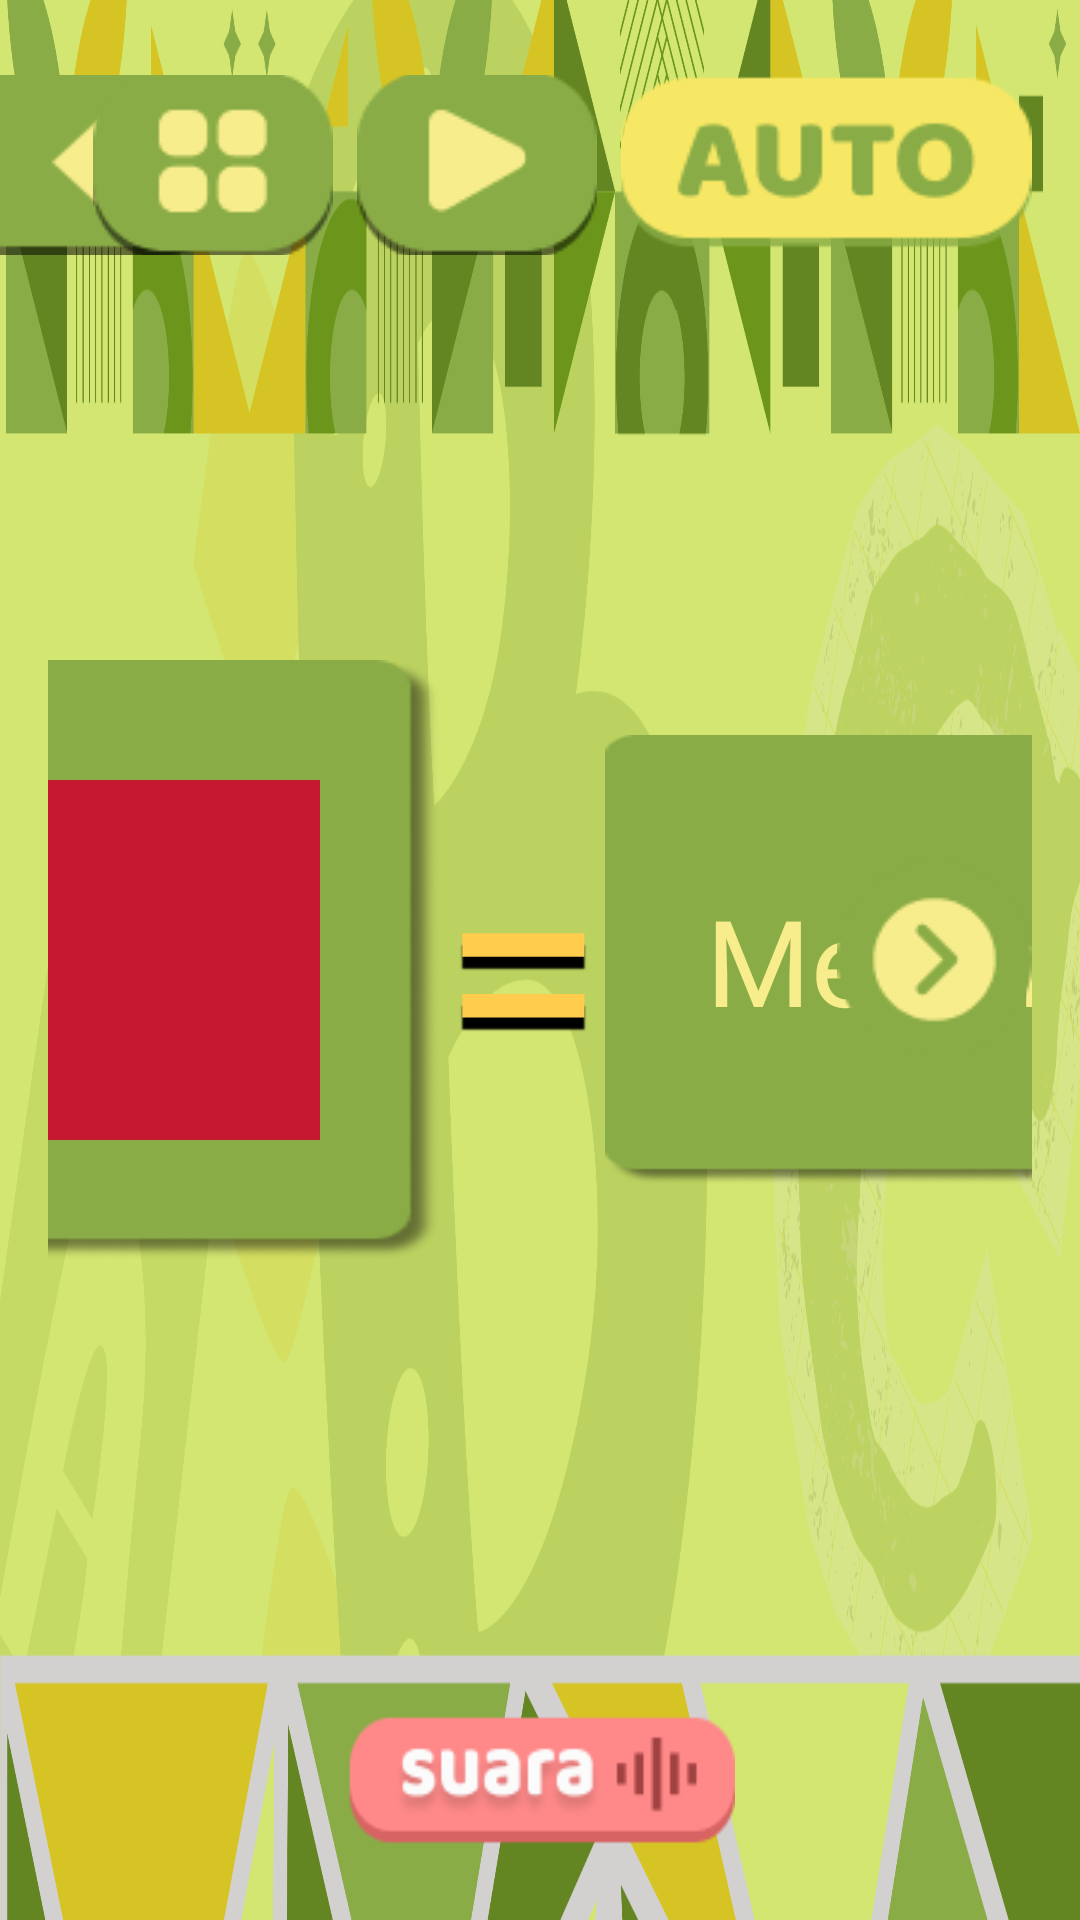

Icons on this 1080*1920 Android screen, each with the point to tap as (x,y):
Kembali ke pilihan huruf: (213,165)
right: (951,959)
